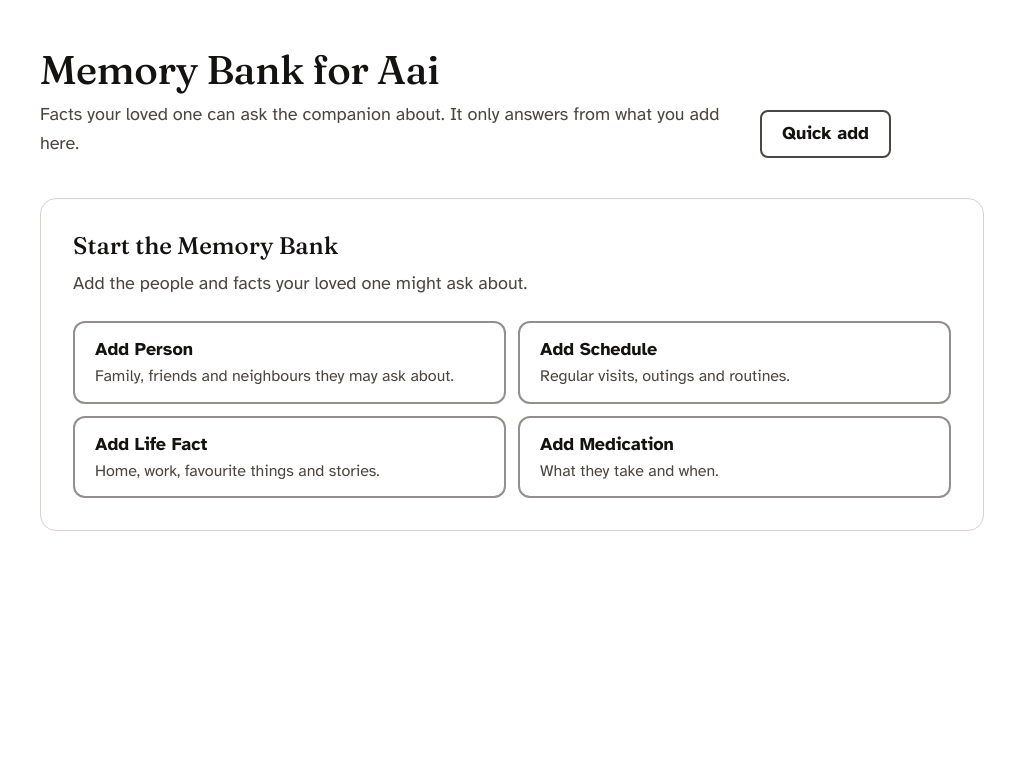
Test case: Memory Bank editor › the empty state offers all four categories, not just "Add Person" › opens the correctly-categorised form from an empty bank without requiring a person first
Step 1. Click the button "Add Schedule Regular visits, outings and routines." → {"x": 560, "y": 349}, box [518,321,951,404]
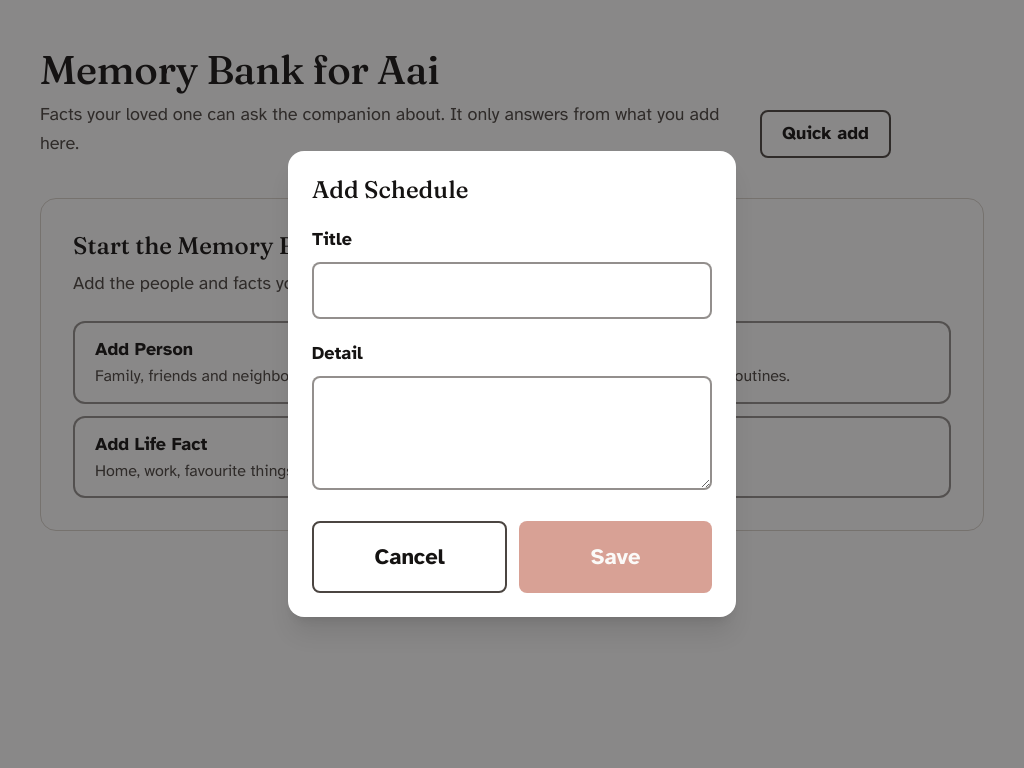
Expected: the heading "Add Schedule" is shown, [312,175,468,204]
Expected: the field labelled "Title" is shown, [312,262,712,319]
